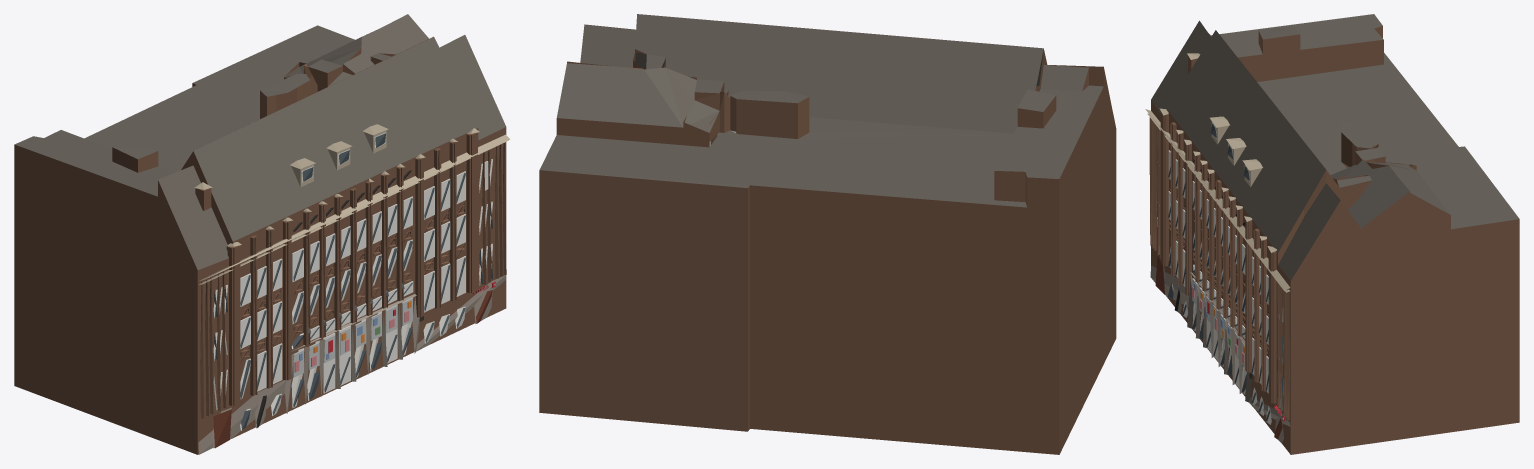
File: sarphatistraat-47.lod1.glb
3 renders of one model, left to right at view 1: azimuth 30°, elevation 25°; view 2: azimuth 150°, elevation 25°; view 3: azimuth 270°, elevation 25°, orthographic. The views are drawn at different scales.
Visible parts, largest first — view 1: sarphatistraat-47; view 2: sarphatistraat-47; view 3: sarphatistraat-47.
Boxes of the visible parts, left/top/right/bottom form: sarphatistraat-47: left=14, top=14, right=510, bottom=454; sarphatistraat-47: left=539, top=14, right=1116, bottom=454; sarphatistraat-47: left=1145, top=14, right=1519, bottom=454.
Bounding box in the file's own units: 41.34 × 23.91 × 31.15.
